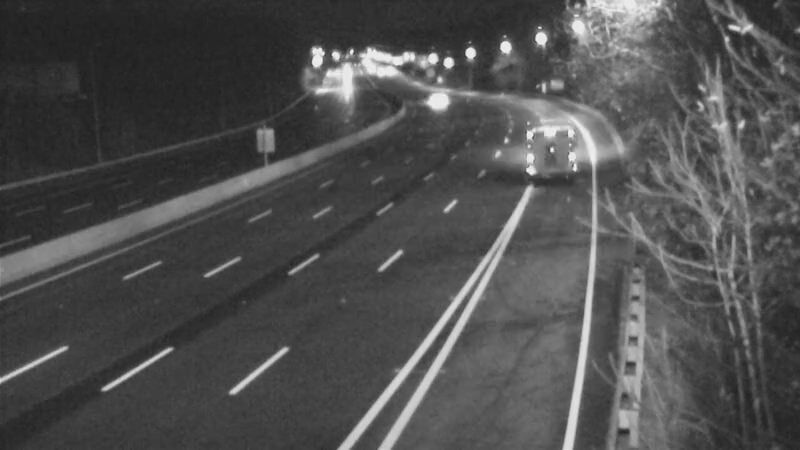vehicle: (410, 72, 460, 122), (518, 117, 568, 167)
